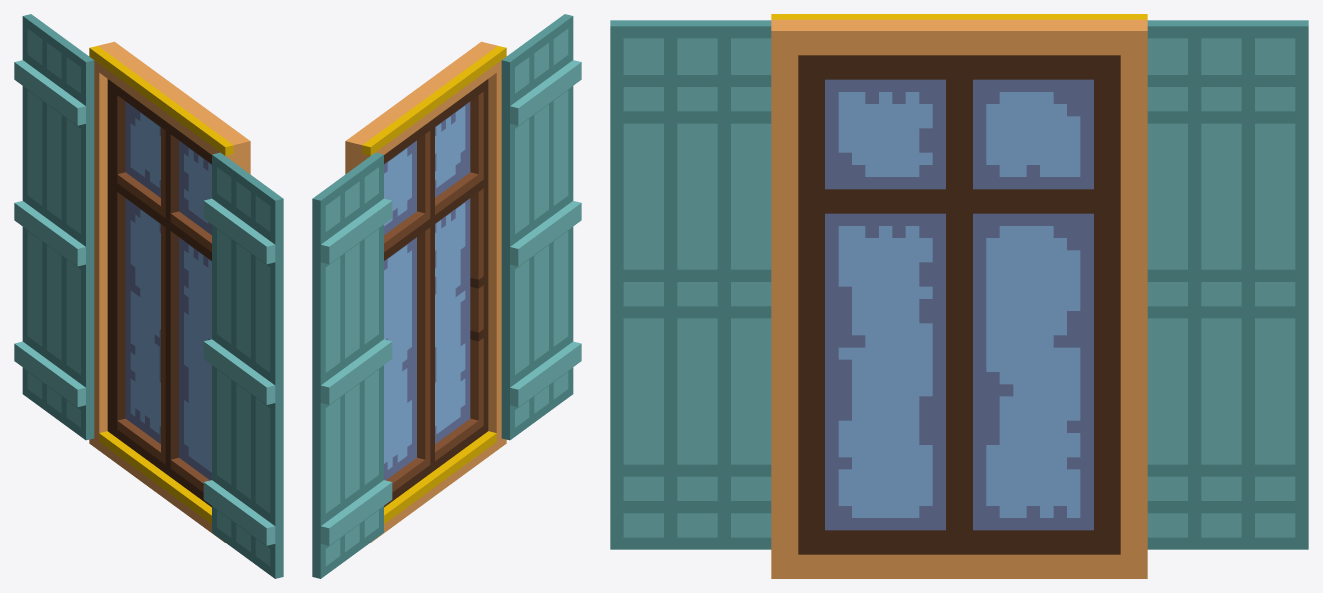
File: window_textured_big_blue_orange.obj
3 views of the same model, side by side, from view 1: azimuth 30°, elevation 25°; view 2: azimuth 150°, elevation 25°; view 3: azimuth 270°, elevation 25° (orthographic). The views are drawn at different scales.
Bounding box in the file's own units: 0.5 × 4.5 × 5.2.
Materials: 1 (1 with a texture image).
